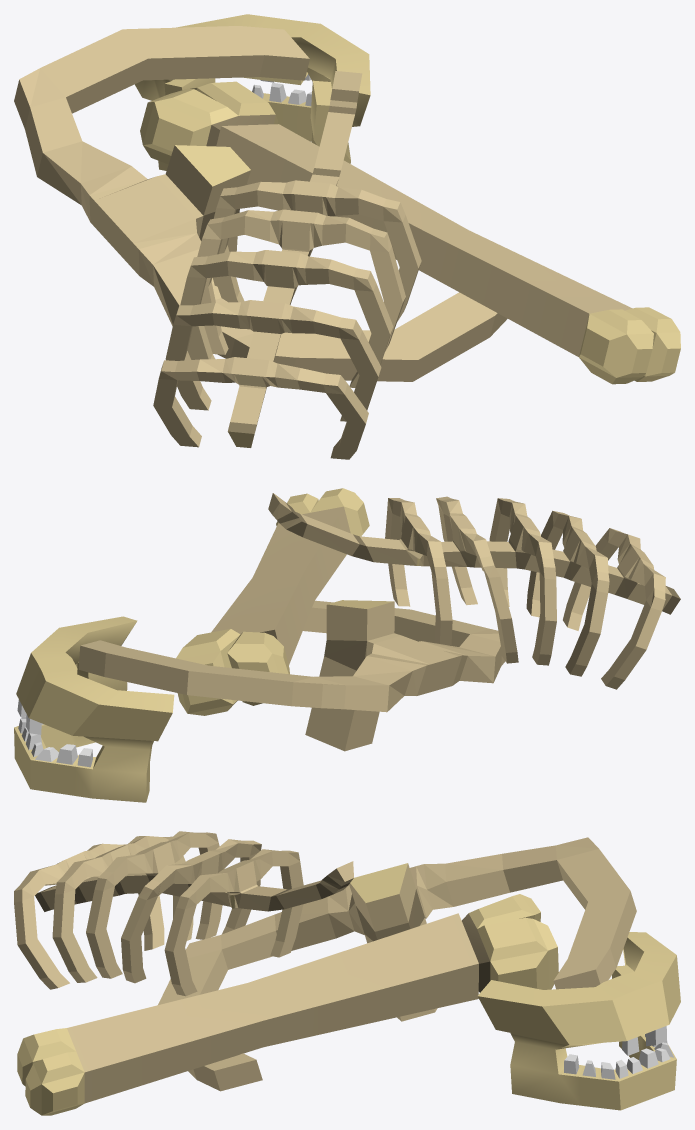
File: esqu1.fbx
3 renders of one model, top to bottom at view 1: azimuth 30°, elevation 25°; view 2: azimuth 150°, elevation 25°; view 3: azimuth 270°, elevation 25°, orthographic. The views are drawn at different scales.
Parts seen in each view (by area): view 1: Costilla_5, Columna1, Hueso8, Cabeza_Parte_Abajo2; view 2: Columna1, Costilla_5, Cabeza_Parte_Abajo2, Hueso8; view 3: Hueso8, Columna1, Costilla_5, Cabeza_Parte_Abajo2.
Part boxes in pixels (left/top/right/bottom): Costilla_5: left=14, top=26, right=507, bottom=381; Columna1: left=153, top=71, right=421, bottom=459; Hueso8: left=140, top=81, right=680, bottom=384; Cabeza_Parte_Abajo2: left=135, top=14, right=370, bottom=170; Columna1: left=268, top=493, right=680, bottom=689; Costilla_5: left=78, top=600, right=505, bottom=751; Cabeza_Parte_Abajo2: left=14, top=616, right=174, bottom=802; Hueso8: left=176, top=488, right=369, bottom=715; Hueso8: left=17, top=894, right=558, bottom=1115; Columna1: left=14, top=831, right=353, bottom=996; Costilla_5: left=158, top=837, right=636, bottom=1091; Cabeza_Parte_Abajo2: left=477, top=932, right=680, bottom=1110.
Size of the model in its own units: 2.51 by 1.15 by 3.48.
